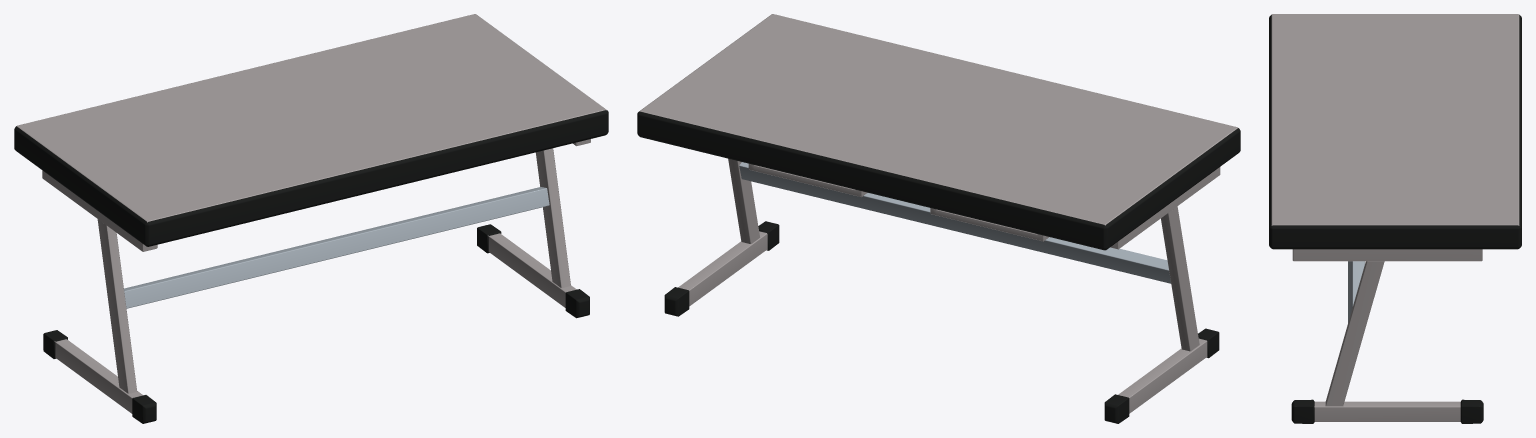
File: Schultisch.fbx
3 renders of one model, left to right at view 1: azimuth 30°, elevation 25°; view 2: azimuth 150°, elevation 25°; view 3: azimuth 270°, elevation 25°, orthographic. The views are drawn at different scales.
Visible parts, largest first — view 1: Schultisch; view 2: Schultisch; view 3: Schultisch.
Part boxes in pixels (x1,y1,x2,y2): Schultisch: (14, 14, 608, 423); Schultisch: (637, 14, 1240, 423); Schultisch: (1269, 14, 1521, 423).
Size of the model in its own units: 139 by 61.2 by 69.6.
